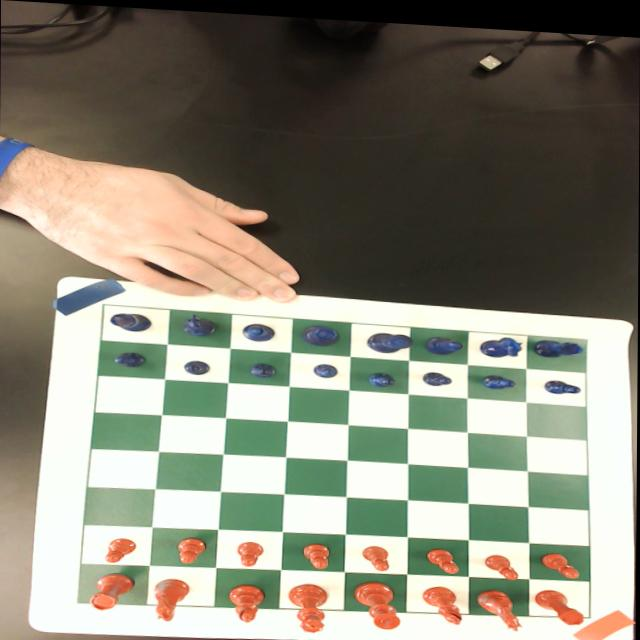B: (424, 330, 465, 352), (241, 319, 275, 340)
K: (367, 328, 414, 350)
N: (478, 329, 525, 353), (181, 312, 218, 335)
P: (542, 372, 582, 388), (113, 349, 147, 367), (480, 368, 515, 385), (182, 357, 212, 373), (367, 367, 395, 384), (422, 366, 452, 381), (249, 359, 277, 375), (311, 359, 337, 375)
Q: (301, 320, 341, 344)
R: (533, 331, 585, 353), (109, 310, 152, 331)
b: (422, 579, 462, 620), (227, 581, 265, 621)
cb: (77, 303, 590, 610)
k: (352, 576, 401, 626)
n: (477, 583, 523, 625), (152, 575, 191, 621)
p: (540, 546, 580, 572), (484, 547, 520, 574), (102, 536, 138, 563), (425, 542, 459, 569), (176, 534, 207, 563), (302, 539, 330, 566), (237, 538, 264, 564), (362, 541, 390, 566)
q: (288, 579, 328, 630)
r: (88, 569, 135, 611), (534, 582, 586, 618)
